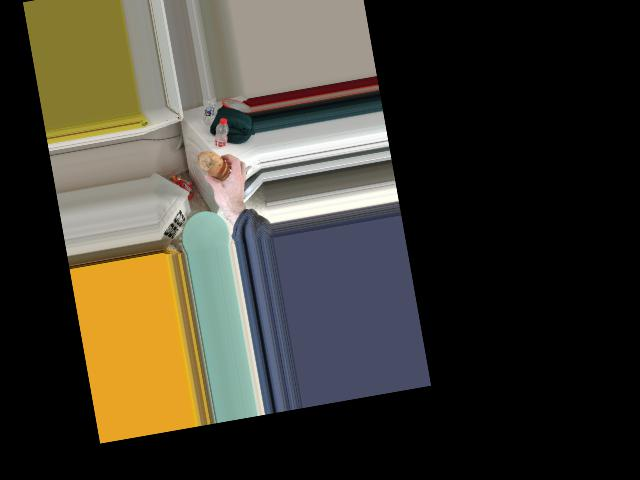sweet_potato: (198, 148, 231, 186)
